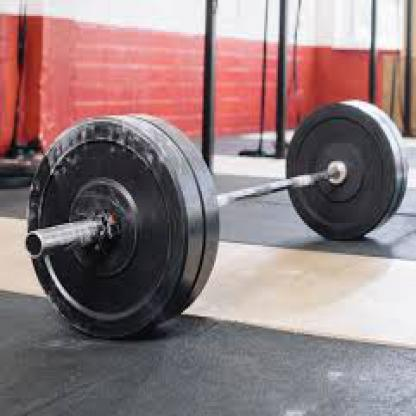Barbell: (17, 222, 50, 266)
